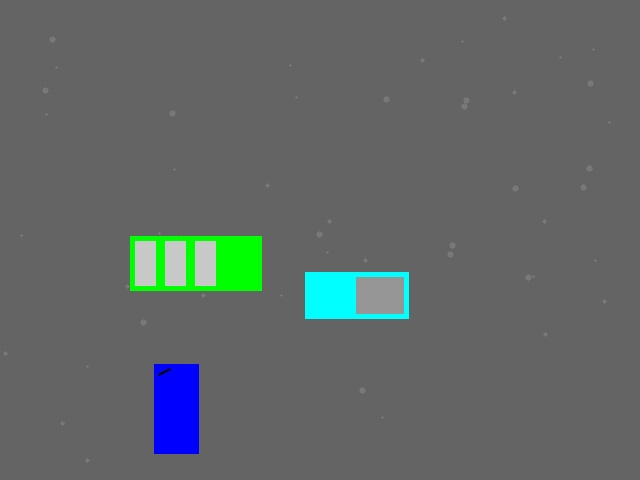bus: (130, 236, 261, 290)
motorcycle: (154, 364, 198, 453)
truck: (305, 272, 408, 318)
